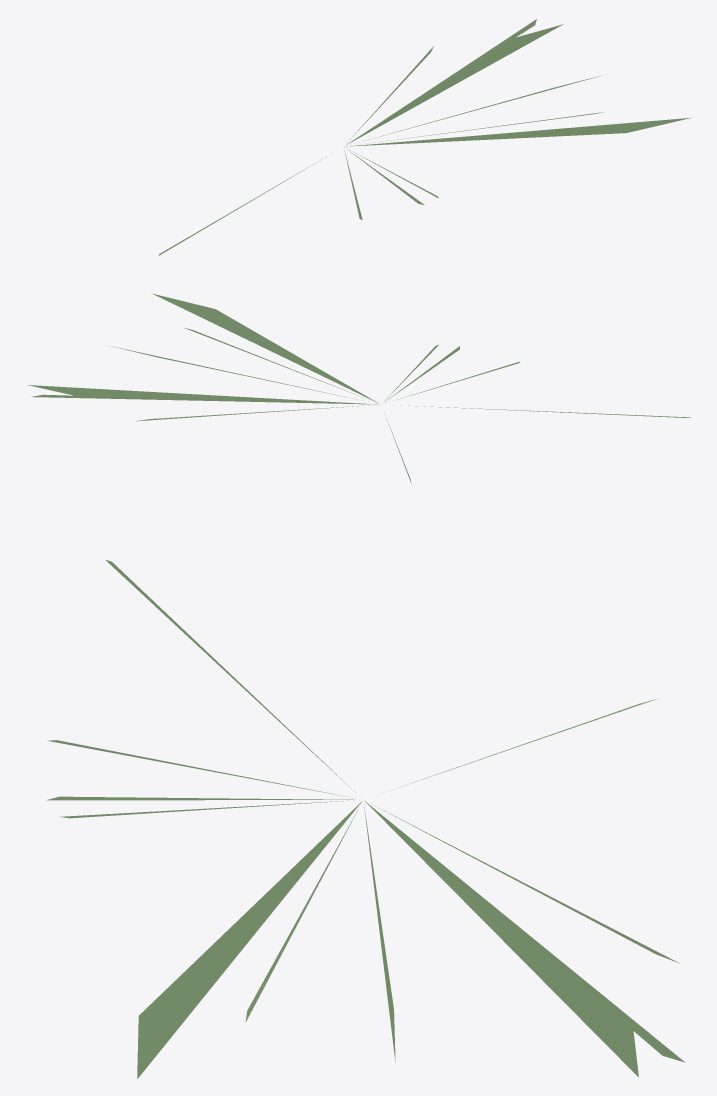
Rendered from c_1633_17837_parks.glb.
3 views of the same model, one above another, from view 1: azimuth 30°, elevation 25°; view 2: azimuth 150°, elevation 25°; view 3: azimuth 270°, elevation 25° (orthographic). The views are drawn at different scales.
Visible parts, largest first — view 1: geometry_0; view 2: geometry_0; view 3: geometry_0.
Part boxes in pixels (left/top/right/bottom): geometry_0: left=159, top=19, right=691, bottom=255; geometry_0: left=28, top=293, right=691, bottom=482; geometry_0: left=46, top=560, right=685, bottom=1079.
Bounding box in the file's own units: 203 × 0.3165 × 105.
